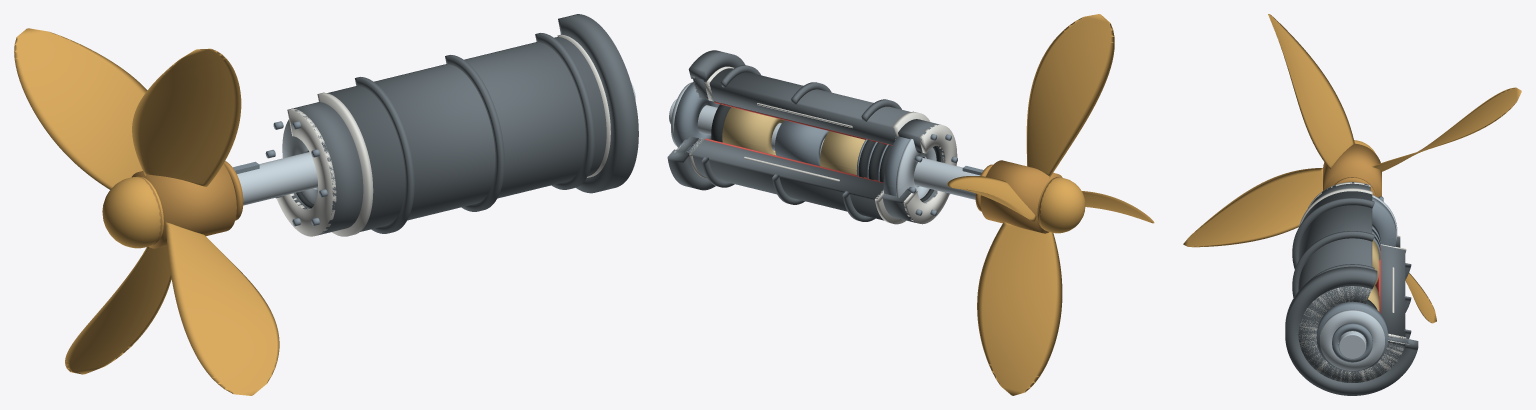
The model's file is marine_propeller_assembly.glb.
3 renders of one model, left to right at view 1: azimuth 30°, elevation 25°; view 2: azimuth 150°, elevation 25°; view 3: azimuth 270°, elevation 25°, orthographic. The views are drawn at different scales.
Visible parts, largest first — view 1: Stern_Tube_Housing_Cutaway, Propeller_Blade_1, Propeller_Blade_3, Propeller_Blade_2, Propeller_Blade_4, Shaft_Bracket_Cutaway, Propeller_Hub, Aft_Gland_Outer_Casing, Hub_Aft_Nose, Aft_Gland_Cut_Face, Propeller_Shaft, Housing_Reinforcement_1 (+5 smaller); view 2: Stern_Tube_Housing_Cutaway, Propeller_Blade_4, Propeller_Blade_2, Propeller_Hub, Hub_Aft_Nose, Propeller_Shaft, Shaft_Bracket_Cutaway, Stern_Tube_Bearing_Forward, Aft_Gland_Cut_Face, Stern_Tube_Bearing_Sleeve, Propeller_Blade_1, Stern_Tube_Bearing_Aft (+11 smaller); view 3: Stern_Tube_Housing_Cutaway, Propeller_Blade_3, Propeller_Blade_2, Shaft_Bracket_Cutaway, Forward_Tube_End_Collar, Propeller_Blade_1, Coupling_Face, Propeller_Hub, Forward_Tube_End_Trim, Housing_Reinforcement_1, Housing_Reinforcement_2, Shaft_Coupling_Flange (+6 smaller).
Part boxes in pixels (x1,y1,x2,y2): Stern_Tube_Housing_Cutaway: (327, 37, 606, 231); Propeller_Blade_1: (14, 28, 147, 189); Propeller_Blade_3: (165, 221, 279, 395); Propeller_Blade_2: (132, 48, 241, 186); Propeller_Blade_4: (65, 246, 171, 374); Shaft_Bracket_Cutaway: (558, 14, 638, 193); Propeller_Hub: (132, 164, 236, 248); Aft_Gland_Outer_Casing: (289, 102, 363, 235); Hub_Aft_Nose: (102, 177, 163, 248); Aft_Gland_Cut_Face: (276, 108, 336, 236); Propeller_Shaft: (237, 83, 635, 205); Housing_Reinforcement_1: (355, 77, 414, 233); Stern_Tube_Housing_Cutaway: (685, 68, 909, 220); Propeller_Blade_4: (977, 222, 1062, 395); Propeller_Blade_2: (1026, 14, 1114, 178); Propeller_Hub: (980, 160, 1062, 233); Hub_Aft_Nose: (1037, 177, 1085, 233); Propeller_Shaft: (669, 99, 980, 199); Shaft_Bracket_Cutaway: (667, 50, 745, 190); Stern_Tube_Bearing_Forward: (722, 107, 784, 155); Aft_Gland_Cut_Face: (903, 124, 957, 224); Stern_Tube_Bearing_Sleeve: (775, 120, 828, 166); Propeller_Blade_1: (947, 176, 1036, 221); Stern_Tube_Bearing_Aft: (820, 131, 865, 174); Stern_Tube_Housing_Cutaway: (1298, 191, 1405, 338); Propeller_Blade_3: (1183, 168, 1322, 247); Propeller_Blade_2: (1268, 14, 1354, 168); Shaft_Bracket_Cutaway: (1285, 266, 1418, 395); Forward_Tube_End_Collar: (1298, 286, 1408, 382); Propeller_Blade_1: (1372, 87, 1521, 171); Coupling_Face: (1320, 309, 1384, 370); Propeller_Hub: (1323, 143, 1381, 197); Forward_Tube_End_Trim: (1298, 286, 1409, 382); Housing_Reinforcement_1: (1292, 197, 1411, 279); Housing_Reinforcement_2: (1292, 231, 1411, 312); Shaft_Coupling_Flange: (1316, 301, 1388, 371).
Size of the model in its own units: 4.44 by 3.32 by 3.32.
